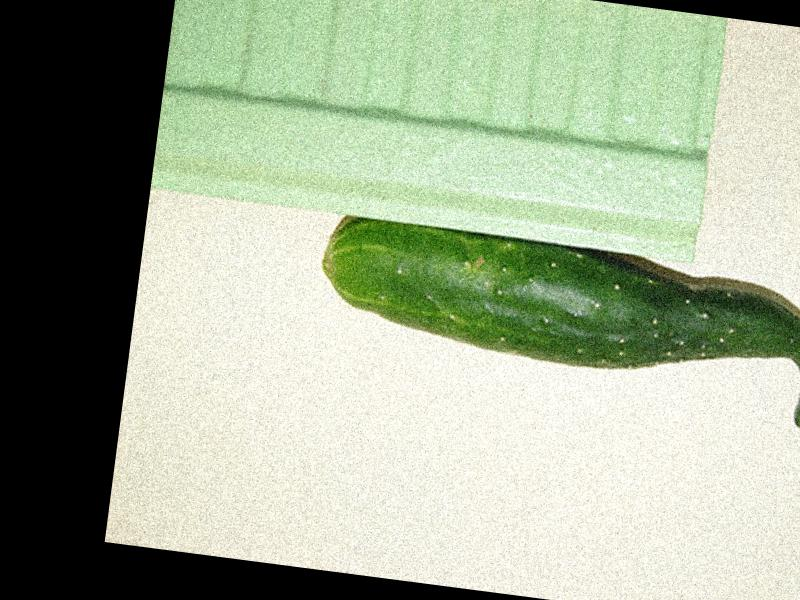Cucumber: (310, 212, 800, 431)
